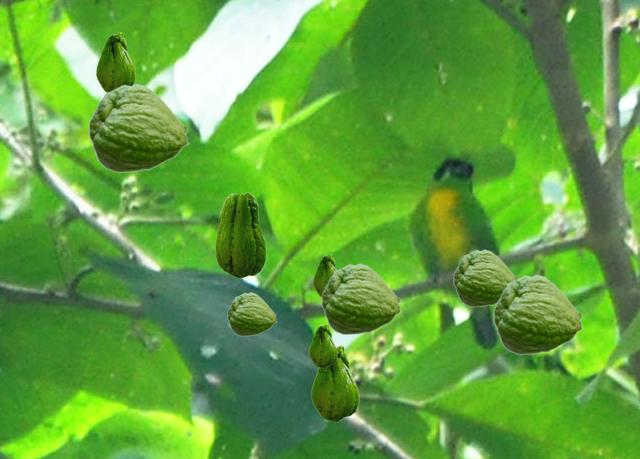sayote: (88, 83, 189, 172), (493, 274, 583, 354), (321, 263, 401, 334), (215, 192, 265, 277), (453, 249, 518, 306), (311, 345, 358, 421), (96, 32, 134, 91), (227, 292, 276, 335), (309, 324, 336, 367), (313, 254, 336, 297)
